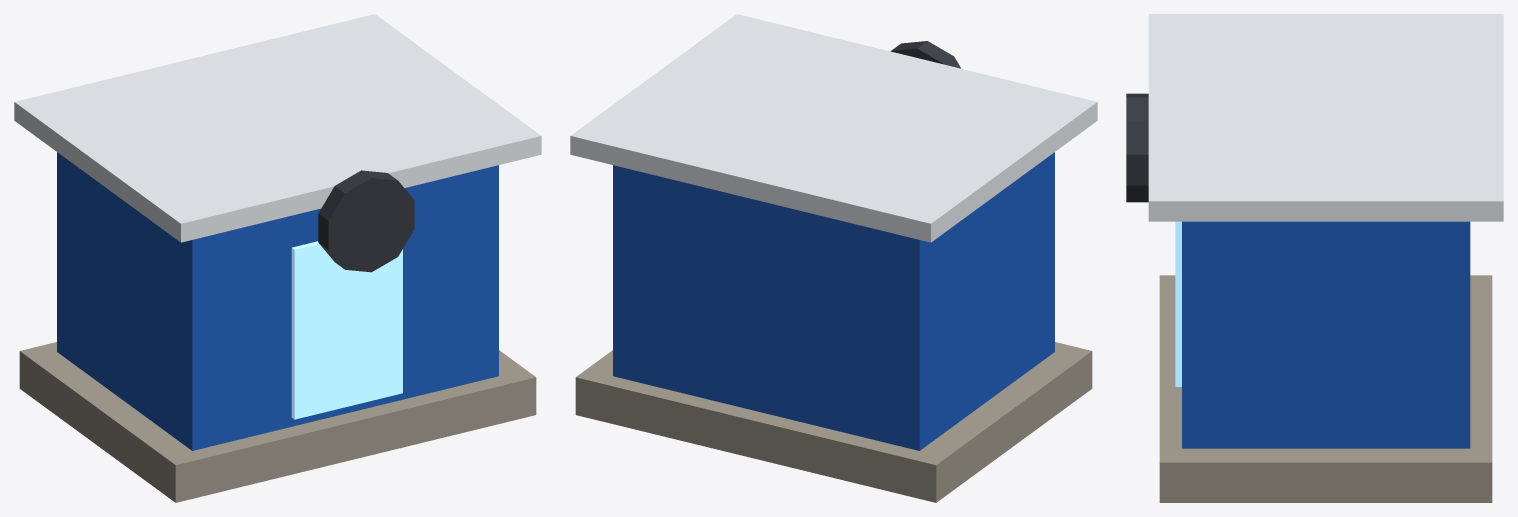
File: lift_station.glb
3 renders of one model, left to right at view 1: azimuth 30°, elevation 25°; view 2: azimuth 150°, elevation 25°; view 3: azimuth 270°, elevation 25°, orthographic. The views are drawn at different scales.
Parts seen in each view (by area): view 1: lift_station; view 2: lift_station; view 3: lift_station.
Boxes of the visible parts, <box> form: lift_station: <box>14,14,541,502</box>; lift_station: <box>570,14,1097,502</box>; lift_station: <box>1126,14,1503,502</box>.
Size of the model in its own units: 4 by 3.1 by 3.4.
